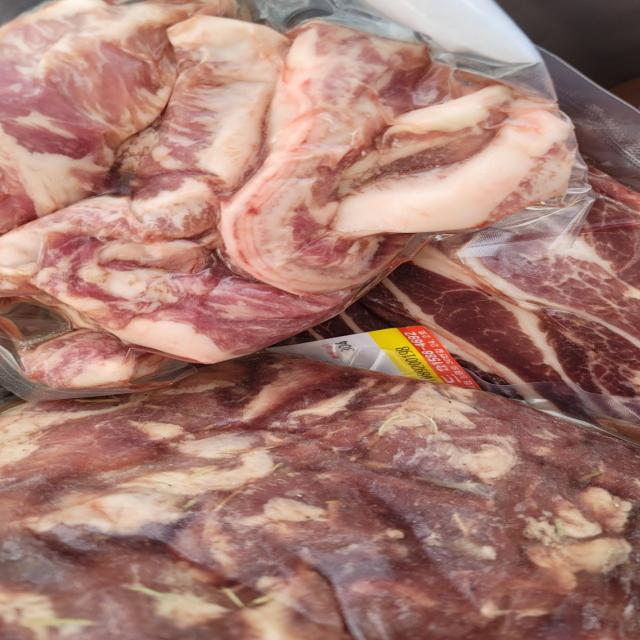pork: (5, 7, 640, 640)
